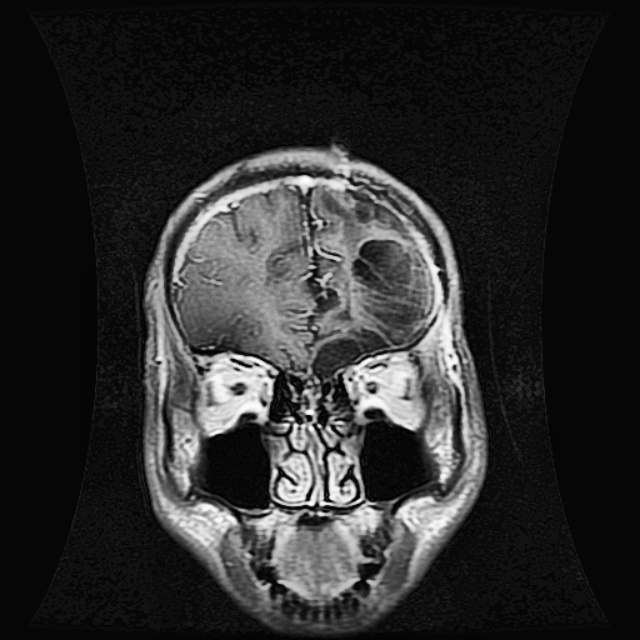Meningioma: (310, 237, 434, 378)
